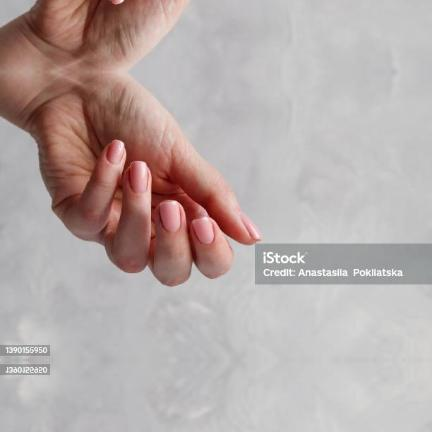Nail: (159, 201, 180, 232), (192, 217, 214, 245), (130, 161, 147, 194), (240, 214, 262, 239), (107, 140, 124, 165), (110, 0, 124, 4)
